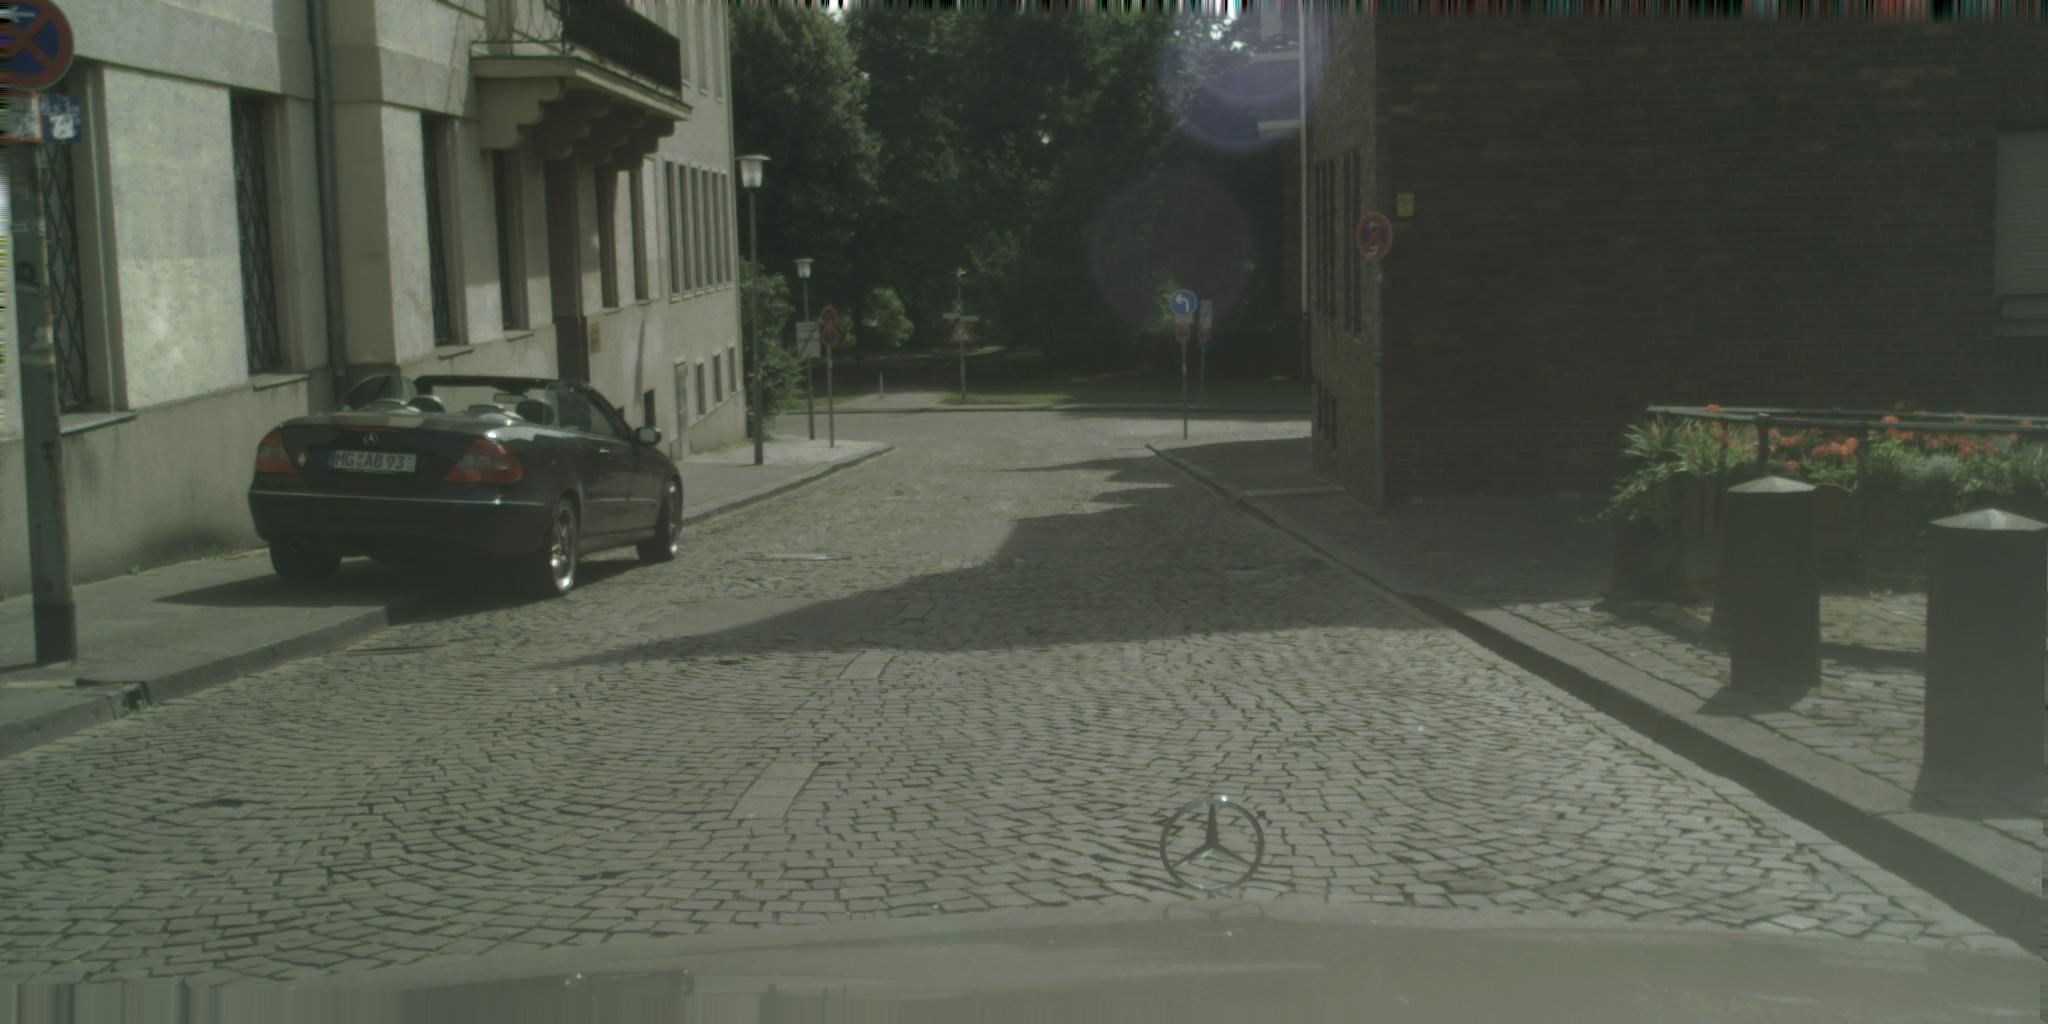car: (247, 374, 686, 600)
